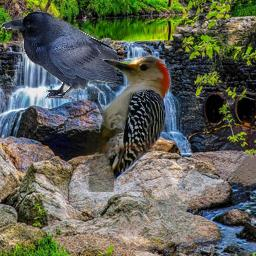Crow: (1, 11, 117, 99)
Woodpecker: (84, 49, 189, 192)
